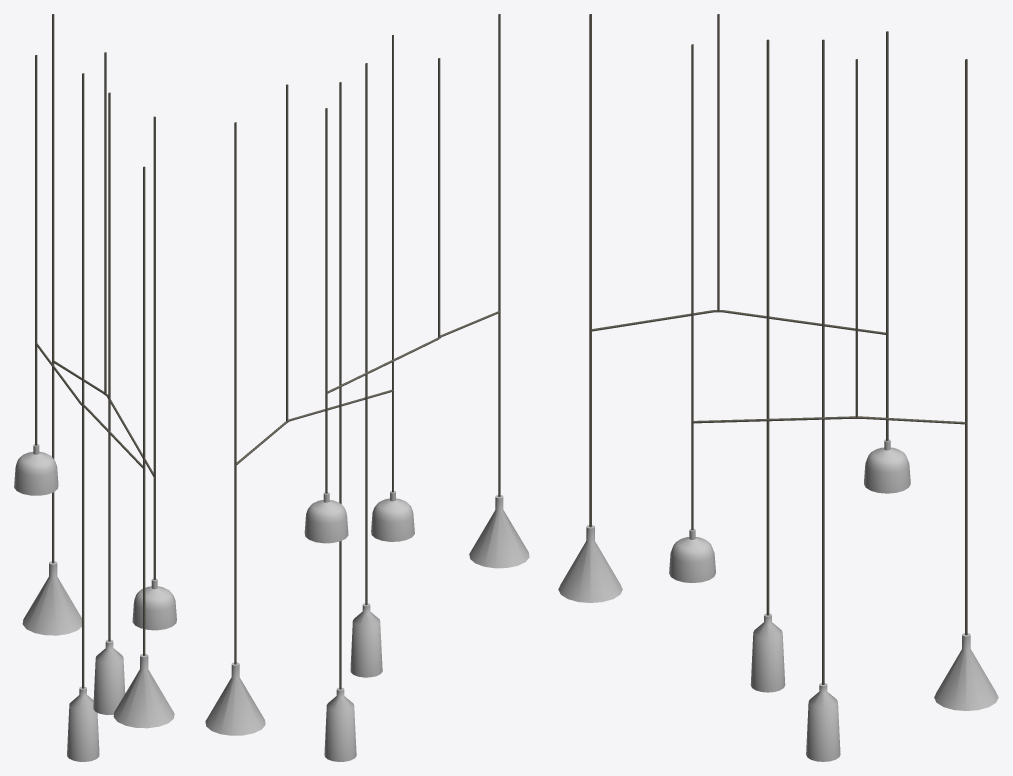
File: MSH_Lamparas_Triples.FBX
3 views of the same model, side by side, from view 1: azimuth 30°, elevation 25°; view 2: azimuth 150°, elevation 25°; view 3: azimuth 270°, elevation 25° (orthographic). The views are drawn at different scales.
Parts seen in each view (by area): view 1: MSH_Lamparas_Triples; view 2: MSH_Lamparas_Triples; view 3: MSH_Lamparas_Triples.
Boxes of the visible parts, left/top/right/bottom form: MSH_Lamparas_Triples: left=14, top=14, right=176, bottom=761; MSH_Lamparas_Triples: left=205, top=14, right=529, bottom=761; MSH_Lamparas_Triples: left=558, top=14, right=998, bottom=761.
Size of the model in its own units: 102 by 470 by 263.
